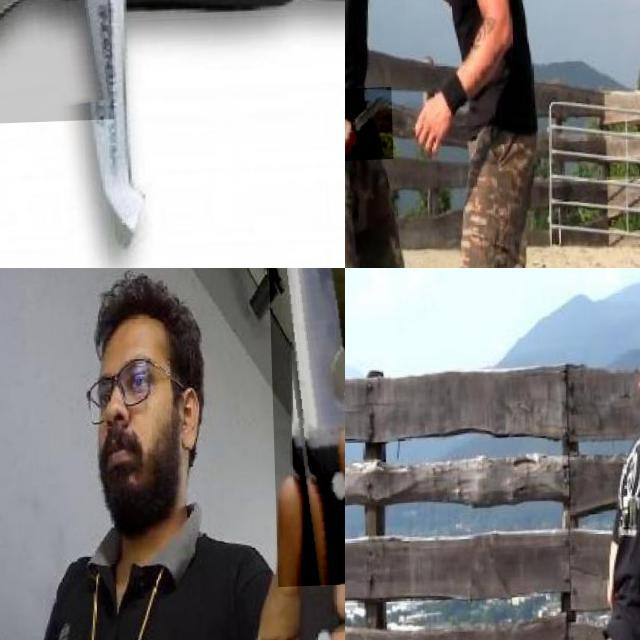-: (262, 268, 345, 589), (0, 0, 141, 144), (345, 90, 390, 164)
